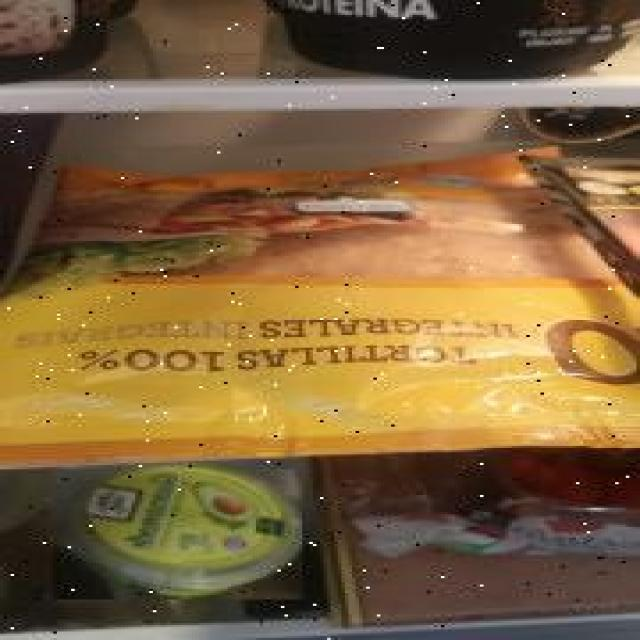guacamole: (55, 470, 304, 600)
tortillas: (0, 145, 640, 469)
